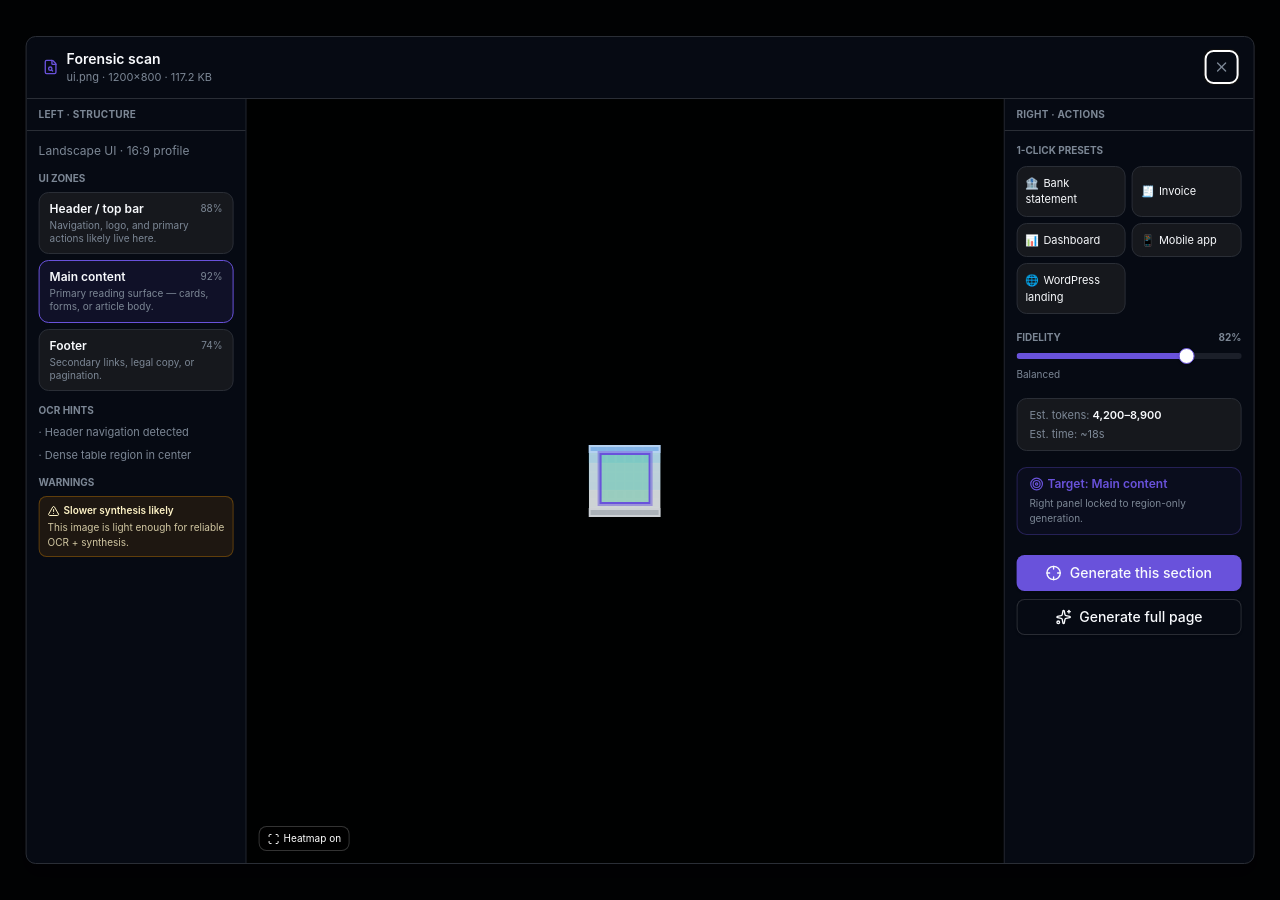
Scenario: buttons › forensic-lightbox › preset Bank statement — toggles active state
Later steps or results of the test are not shown.
Click the button "🏦Bank statement" at (1071, 191), box [1016, 166, 1126, 216]
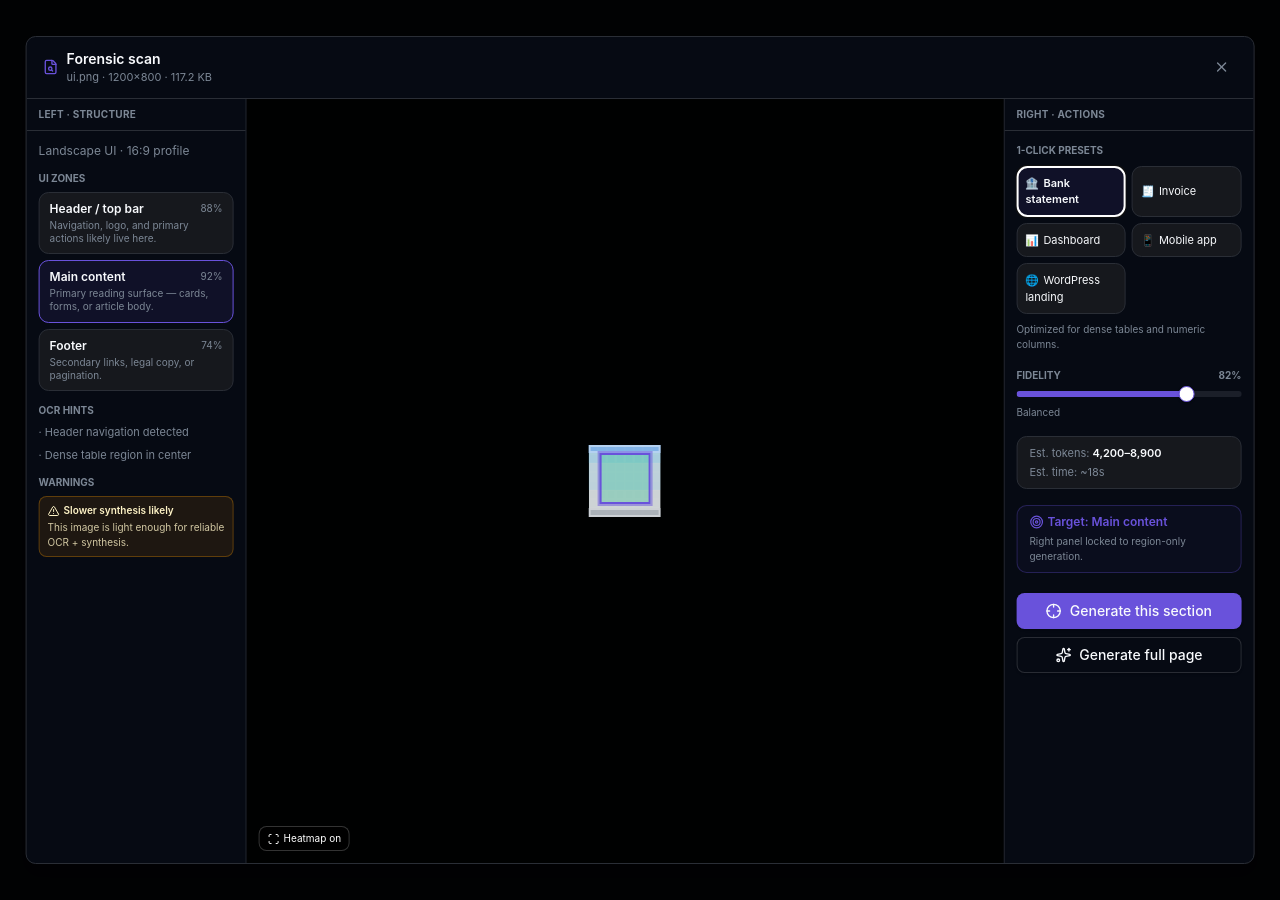
Result: the button "🏦Bank statement" has class "border-primary" at [1016, 166, 1126, 216]
